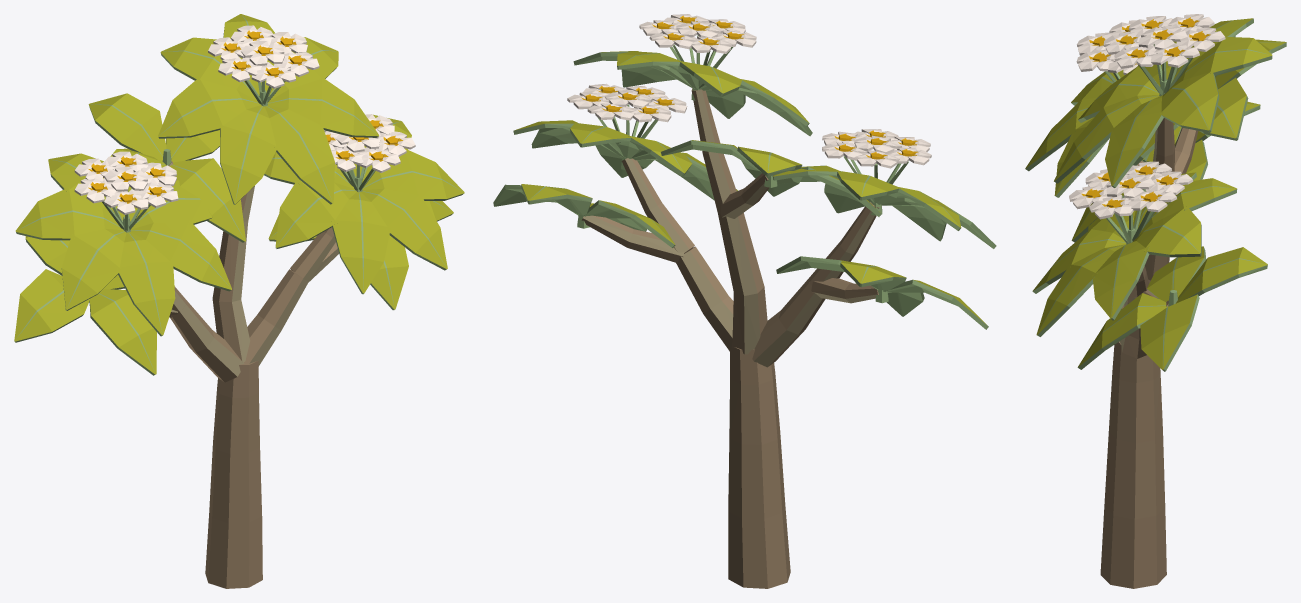
Rendered from plumeriaTree.glb.
3 renders of one model, left to right at view 1: azimuth 30°, elevation 25°; view 2: azimuth 150°, elevation 25°; view 3: azimuth 270°, elevation 25°, orthographic. The views are drawn at different scales.
Parts seen in each view (by area): view 1: plumeriaTree; view 2: plumeriaTree; view 3: plumeriaTree.
Boxes of the visible parts, left/top/right/bottom form: plumeriaTree: left=14, top=14, right=464, bottom=588; plumeriaTree: left=493, top=14, right=996, bottom=588; plumeriaTree: left=1025, top=14, right=1286, bottom=588.
Bounding box in the file's own units: 5.21 × 5.66 × 2.36.
1 material, 1 textured.
